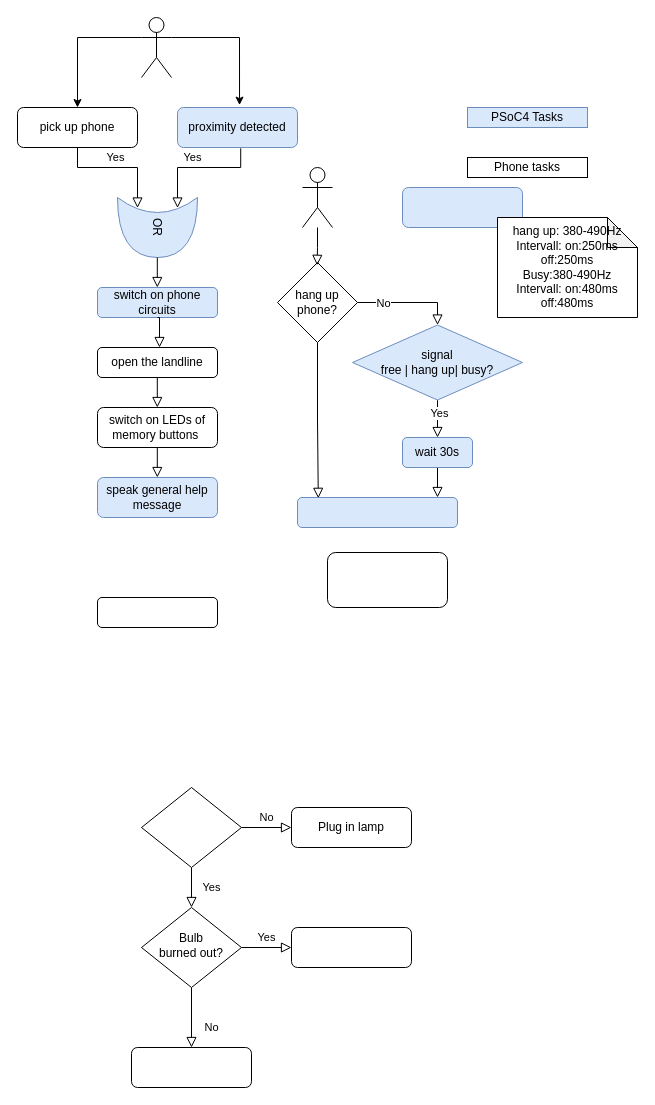
The diagram is 655 pixels wide and 1105 high, and some of its shapes have lost their labels. Each missing label, with the centre of its shape:
hang up phone: the point at 157,612
Lamp plugged in?: the point at 191,827
landline closed, LEDs of memory buttons are off.: the point at 387,580
Listen for signals: the point at 462,207
Repair Lamp: the point at 191,1067
Replace Bulb: the point at 351,947
switch off phone circuit: the point at 377,512
